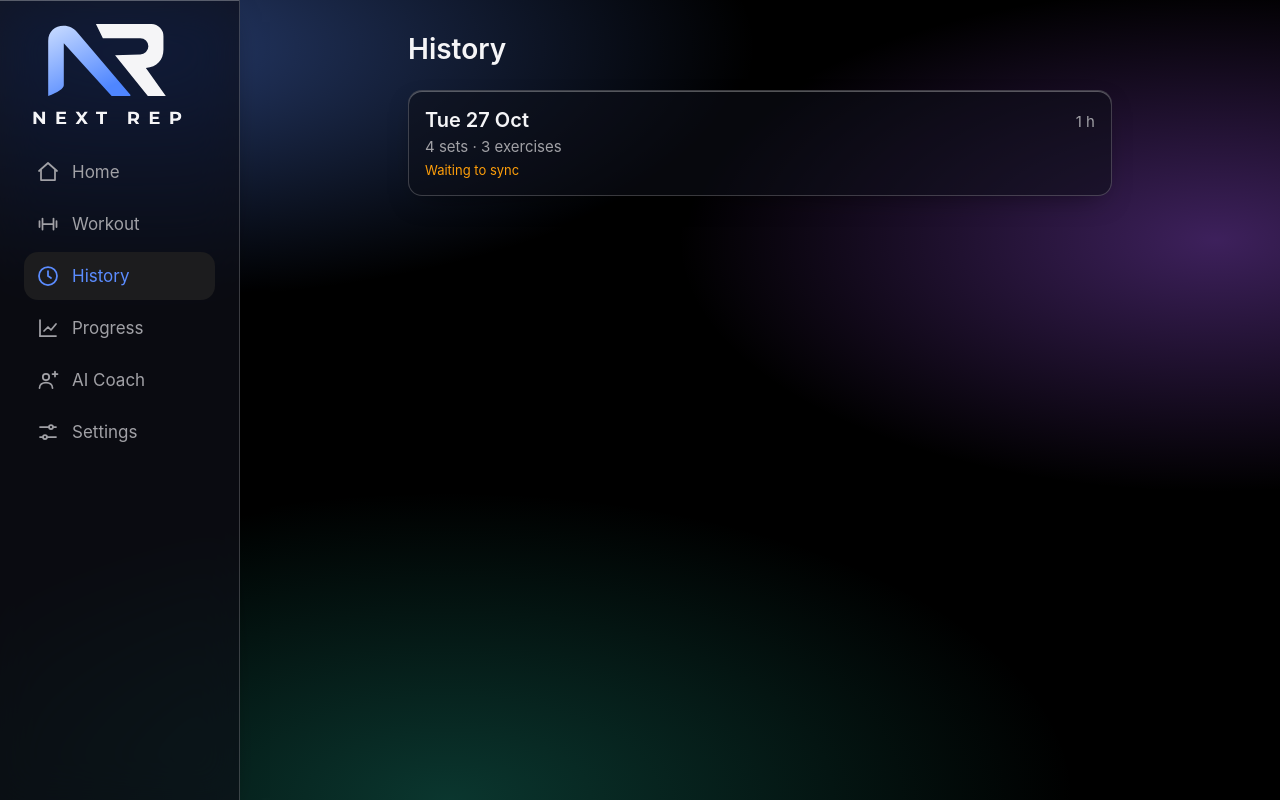
QA history detail for every kind of weight › shows a dumbbell per dumbbell with no bar line, and bodyweight as added weight (0 allowed)
Note: Open it from the list.
Click the link "Tue 27 Oct 1 h 4 sets · 3 exercises Waiting to sync".
click(477, 120)  # box [408, 90, 1112, 196]
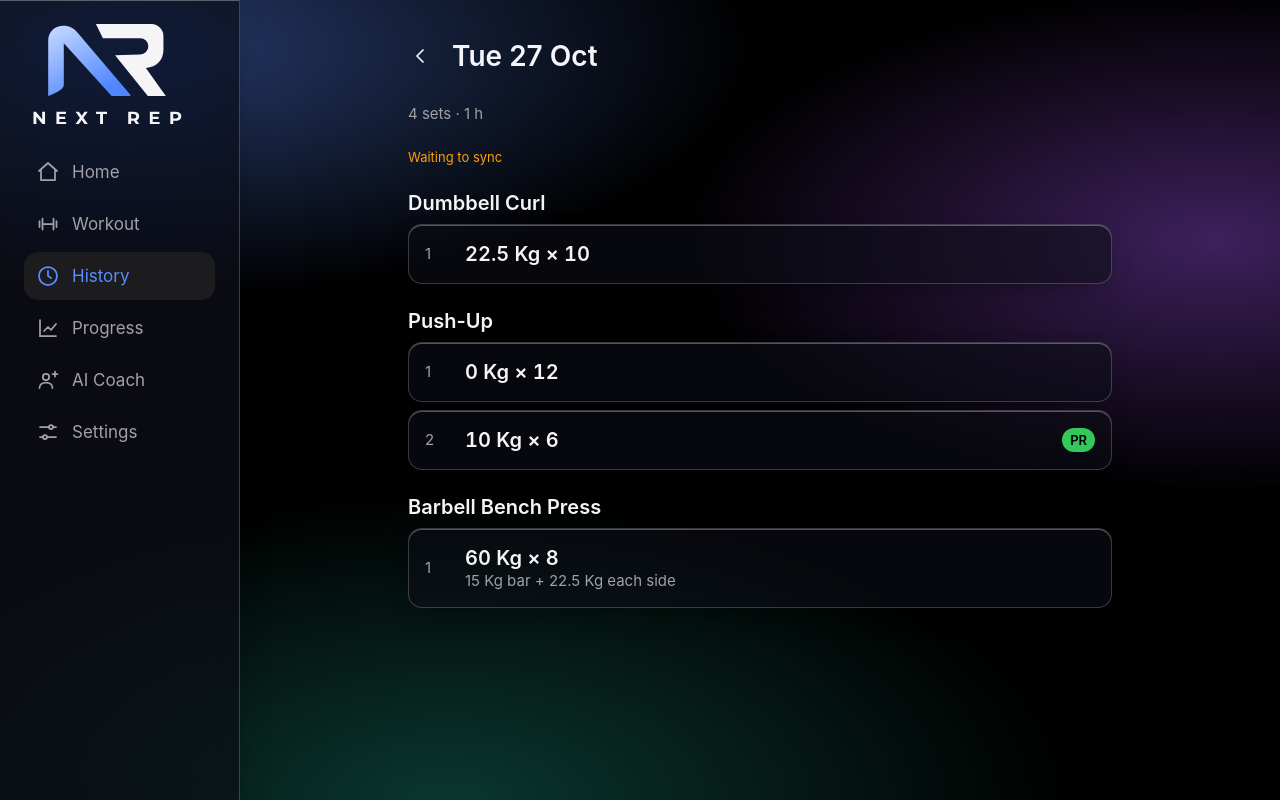
Now the text "22.5 Kg × 10" is shown, box [465, 242, 590, 266]
Now the text "0 Kg × 12" is shown, box [465, 360, 559, 384]
Now the text "10 Kg × 6" is shown, box [465, 428, 559, 452]
